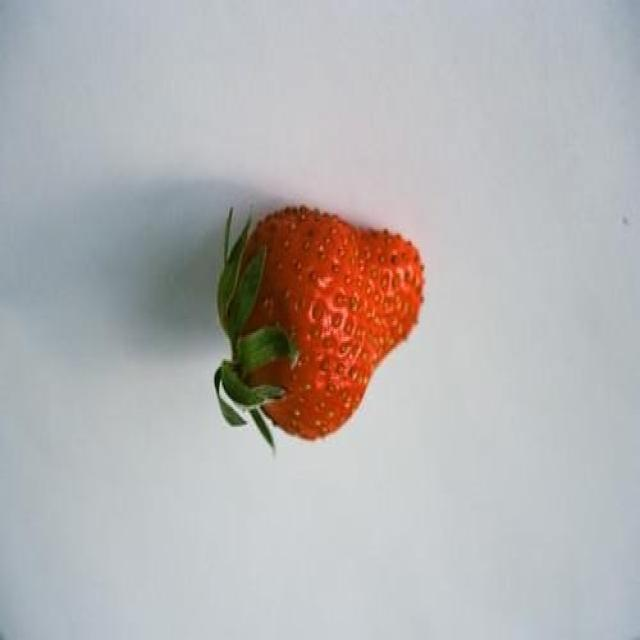mature: (236, 208, 422, 442)
